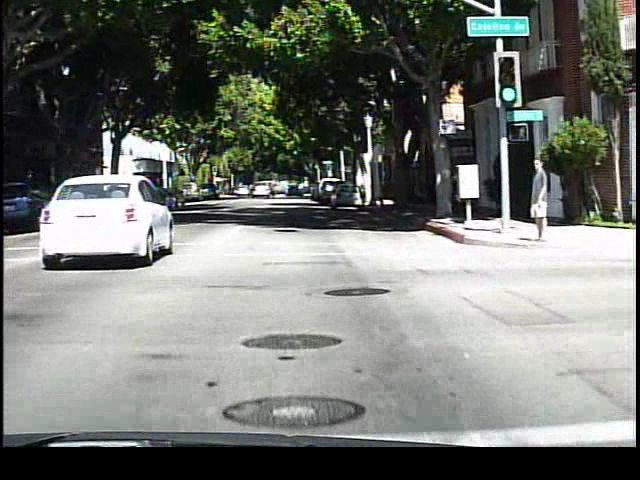person: (523, 151, 553, 247)
